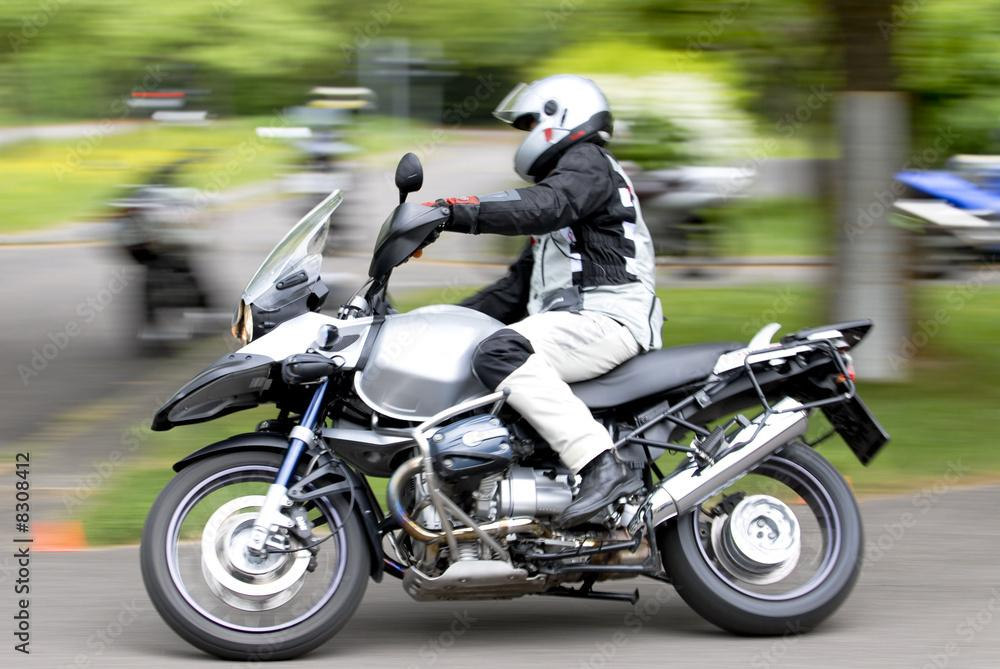helmet: (490, 73, 615, 187)
